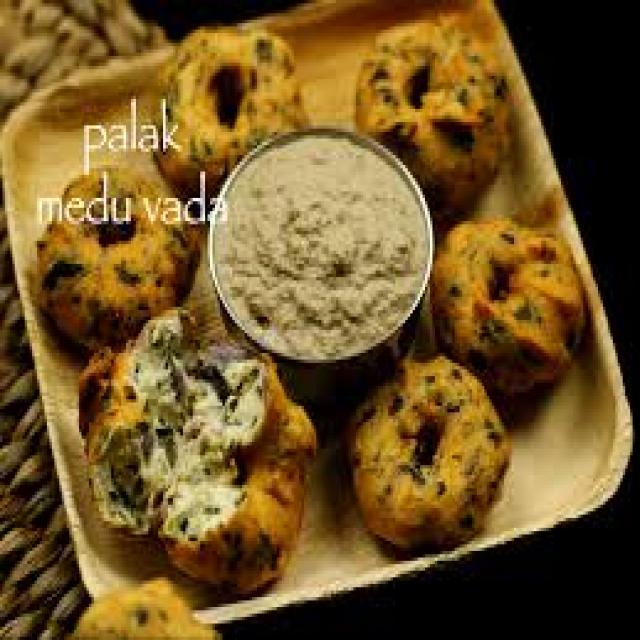MEDU VADA: (82, 315, 300, 594), (423, 214, 597, 408), (353, 351, 520, 540), (346, 21, 519, 195), (39, 154, 199, 328), (156, 20, 309, 175)
